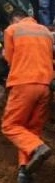boots: (25, 142, 52, 171), (16, 163, 32, 183)
gloves: (0, 48, 7, 64)
hard-hat: (0, 0, 13, 10)
ppe-suit: (0, 0, 28, 160)
